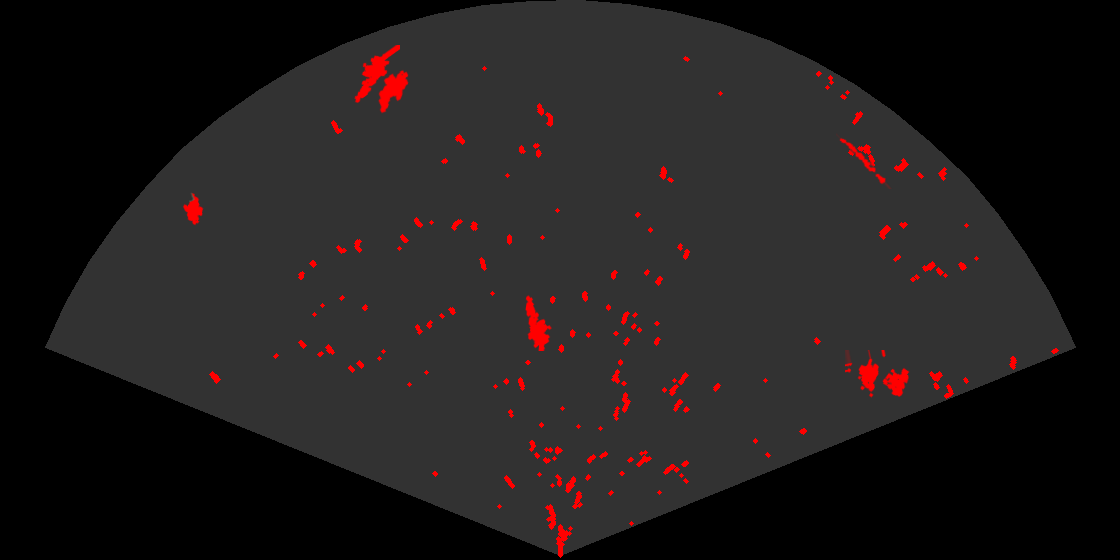AUV: (377, 68, 410, 115), (181, 191, 205, 227)
cage: (845, 350, 911, 399)
chain: (836, 132, 893, 189)
frogman: (353, 45, 400, 105), (524, 293, 554, 351)
